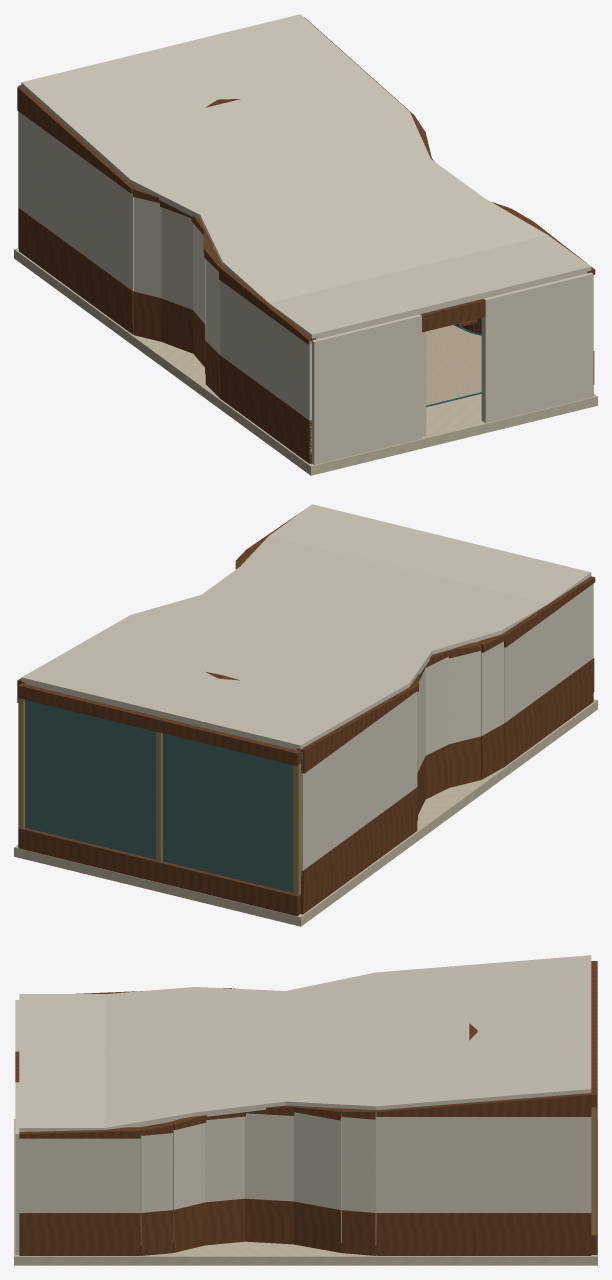
File: TIDAL_ROOM_01_r001.glb
3 views of the same model, one above another, from view 1: azimuth 30°, elevation 25°; view 2: azimuth 150°, elevation 25°; view 3: azimuth 270°, elevation 25° (orthographic).
Visible parts, largest first — view 1: TidalRoomBatch_2, TidalRoomBatch_1, TidalRoomBatch_0, TidalRoomBatch_3; view 2: TidalRoomBatch_2, TidalRoomBatch_6, TidalRoomBatch_1, TidalRoomBatch_0, TidalRoomBatch_5; view 3: TidalRoomBatch_2, TidalRoomBatch_1, TidalRoomBatch_0, TidalRoomBatch_5.
Boxes of the visible parts, x1,y1,x2,y2 form: TidalRoomBatch_2: (19, 14, 593, 464); TidalRoomBatch_1: (17, 17, 595, 463); TidalRoomBatch_0: (14, 248, 597, 475); TidalRoomBatch_3: (426, 325, 481, 405); TidalRoomBatch_2: (21, 504, 593, 885); TidalRoomBatch_6: (25, 700, 293, 892); TidalRoomBatch_1: (17, 511, 595, 916); TidalRoomBatch_0: (14, 699, 597, 926); TidalRoomBatch_5: (18, 698, 300, 895); TidalRoomBatch_2: (15, 955, 591, 1254); TidalRoomBatch_1: (15, 961, 597, 1255); TidalRoomBatch_0: (14, 1119, 597, 1265); TidalRoomBatch_5: (591, 1107, 596, 1235).
Size of the model in its own units: 7.2 by 4.26 by 12.9.
53 materials, 46 textured.
